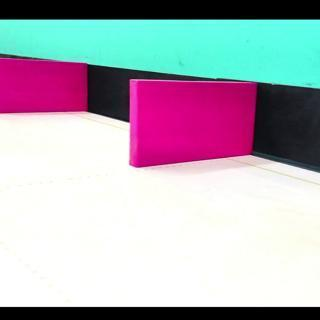xparking: (136, 84, 257, 166), (0, 64, 86, 114)
